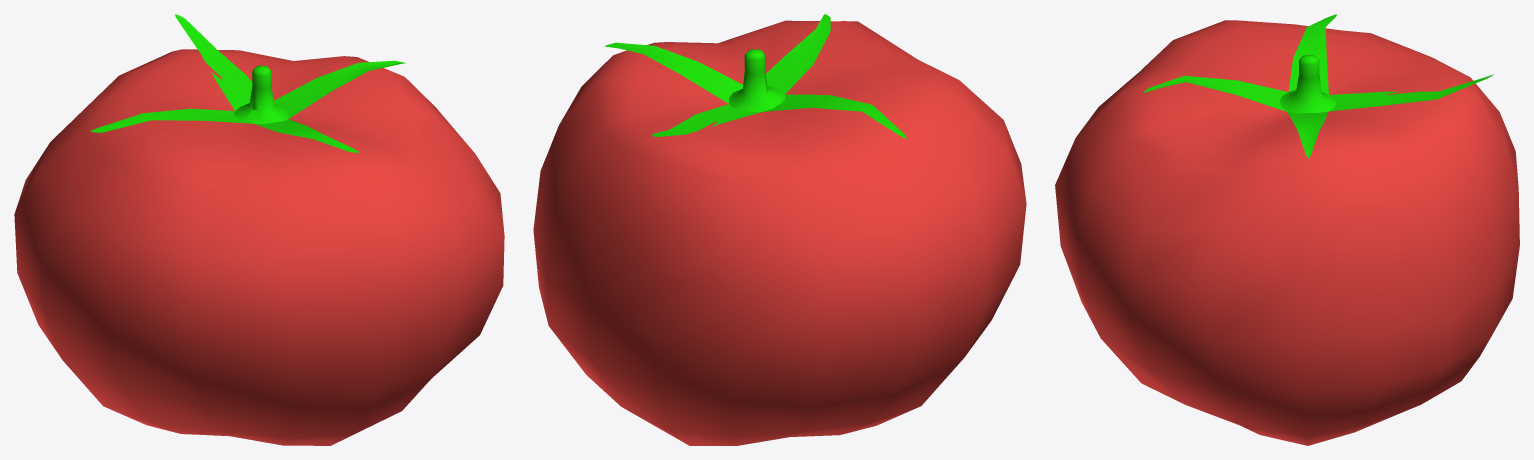
The model's file is Tomate.fbx.
The picture shows the model from 3 angles, left to right: view 1: azimuth 30°, elevation 25°; view 2: azimuth 150°, elevation 25°; view 3: azimuth 270°, elevation 25°; orthographic projection. The views are drawn at different scales.
Parts seen in each view (by area): view 1: tomate; view 2: tomate; view 3: tomate.
Part boxes in pixels (box(x1,y1,x2,y2)): tomate: box(14, 14, 504, 445); tomate: box(533, 14, 1026, 445); tomate: box(1055, 14, 1519, 445).
Bounding box in the file's own units: 11.16 × 9.11 × 10.73.
